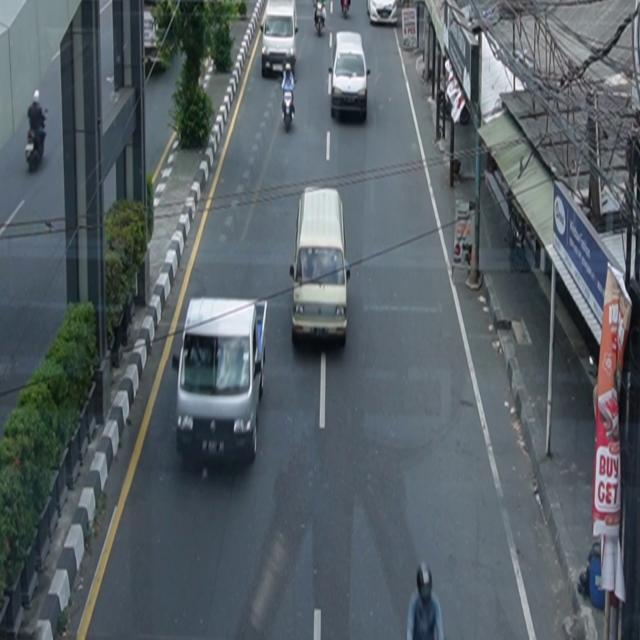bus: (175, 297, 268, 470)
car: (290, 187, 351, 347), (329, 31, 372, 122), (261, 1, 299, 79), (367, 1, 398, 26)
